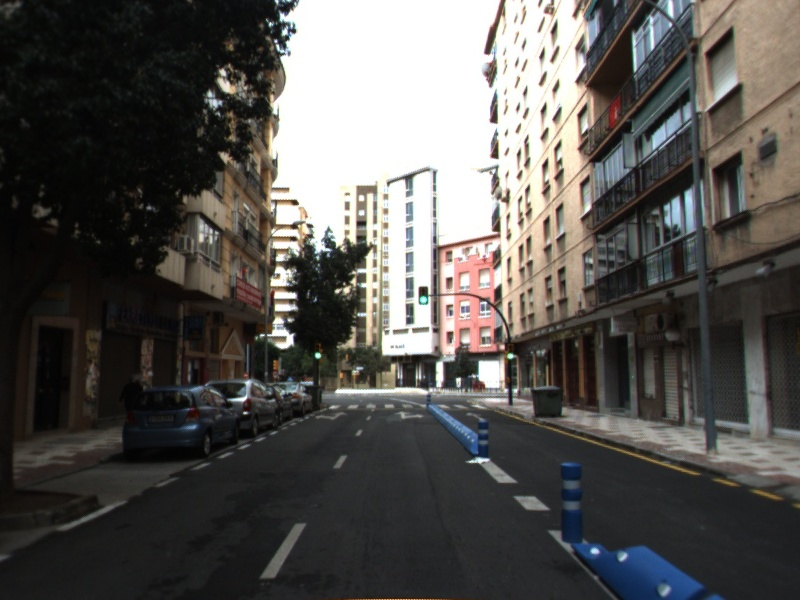STRAIGHT: (464, 411, 485, 422)
STRAIGHT_LEFT: (314, 410, 349, 422)
STRAIGHT_RIGHT: (394, 409, 426, 421)
